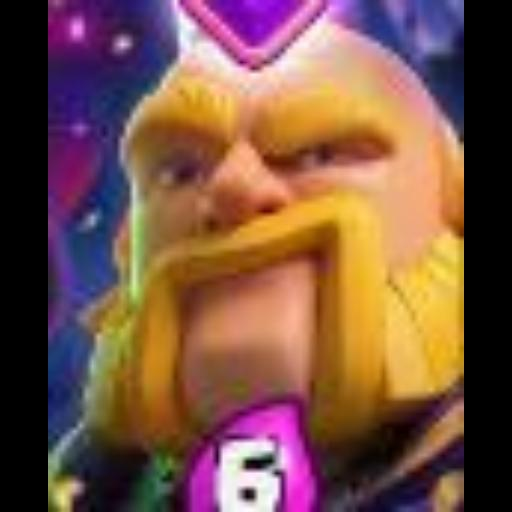royal-giant-evo: (48, 0, 464, 512)
